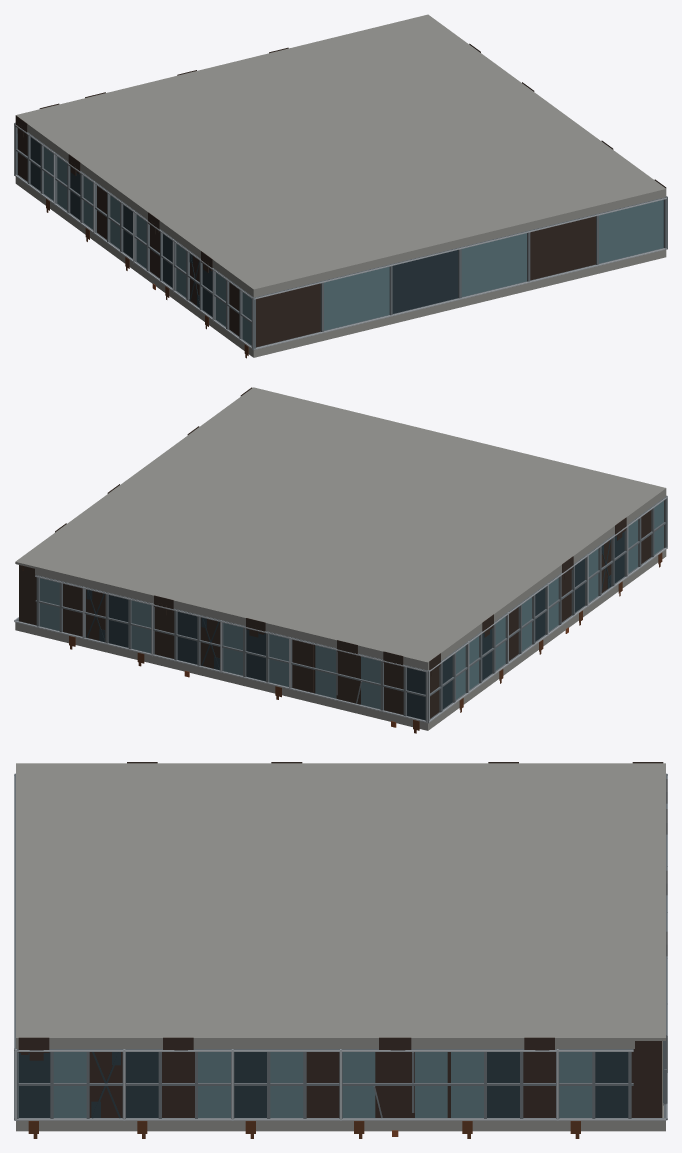
The model's file is tw_glass_24_floor_c.glb.
The picture shows the model from 3 angles, top to bottom: view 1: azimuth 30°, elevation 25°; view 2: azimuth 150°, elevation 25°; view 3: azimuth 270°, elevation 25°; orthographic projection. The views are drawn at different scales.
Parts seen in each view (by area): view 1: tw_glass_24_floor_c; view 2: tw_glass_24_floor_c; view 3: tw_glass_24_floor_c.
Boxes of the visible parts, x1,y1,x2,y2 form: tw_glass_24_floor_c: (14, 14, 667, 358); tw_glass_24_floor_c: (14, 387, 667, 733); tw_glass_24_floor_c: (14, 762, 667, 1138).
Size of the model in its own units: 24.14 by 4.12 by 24.14.
3 materials, 3 textured.
